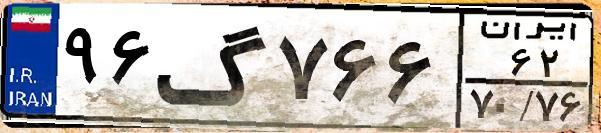0: (495, 70, 520, 125)
2: (537, 27, 568, 80)
6: (385, 28, 445, 110), (330, 28, 385, 110), (110, 28, 156, 98), (560, 70, 590, 125), (508, 27, 537, 80)
7: (270, 28, 330, 110), (470, 70, 495, 125), (535, 70, 560, 125)
9: (57, 26, 110, 100)
گ: (156, 12, 270, 120)
